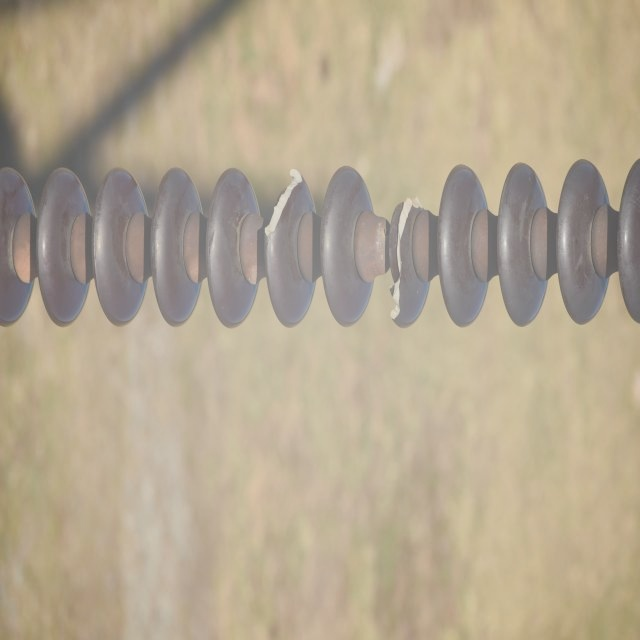broken: (390, 190, 422, 325), (263, 166, 307, 239)
insulator: (0, 157, 637, 328)
